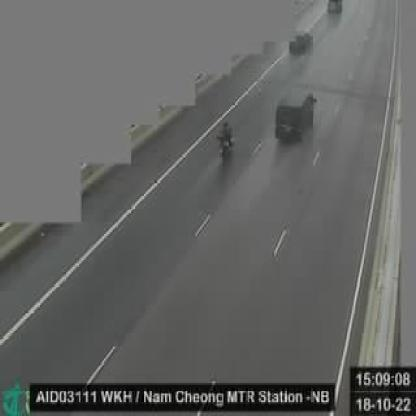Car: (274, 88, 316, 145), (288, 28, 312, 58)
